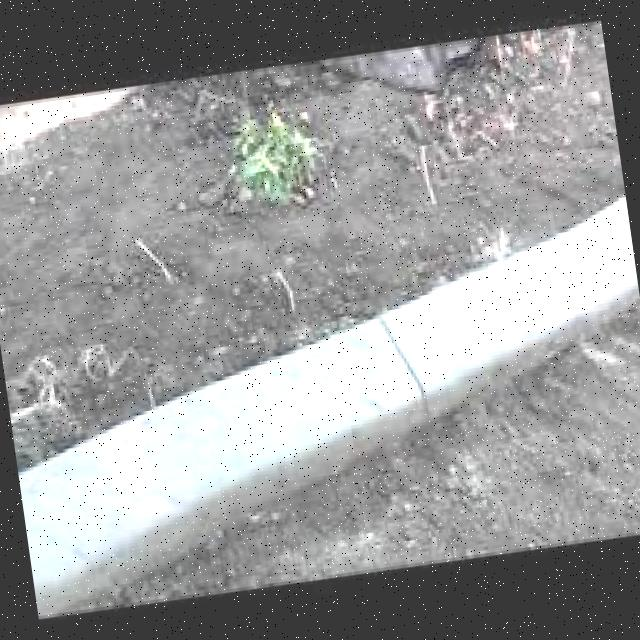curb: (372, 236, 640, 412), (20, 429, 269, 604), (227, 349, 446, 479)
